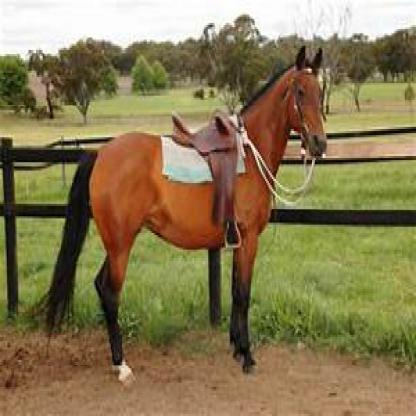horse: (46, 44, 327, 387)
